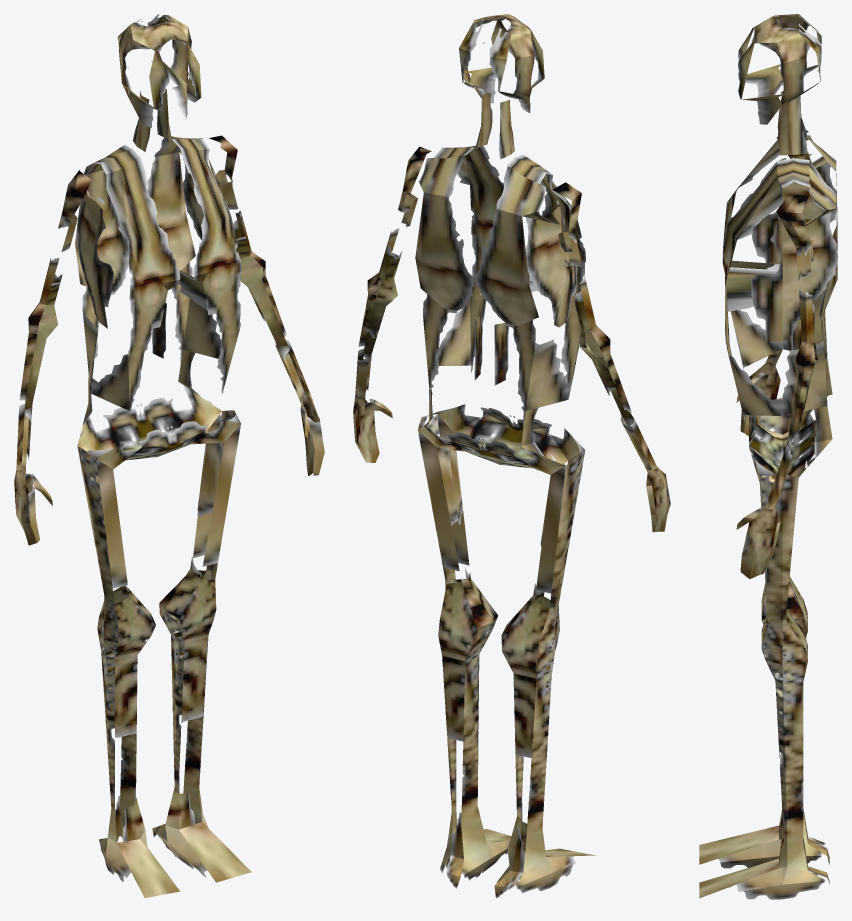
File: psx_skeleton.obj
The picture shows the model from 3 angles, left to right: view 1: azimuth 30°, elevation 25°; view 2: azimuth 150°, elevation 25°; view 3: azimuth 270°, elevation 25°; orthographic projection. The views are drawn at different scales.
Parts seen in each view (by area): view 1: ps1_skeleton; view 2: ps1_skeleton; view 3: ps1_skeleton.
Boxes of the visible parts, left/top/right/bottom form: ps1_skeleton: left=14, top=14, right=324, bottom=897; ps1_skeleton: left=353, top=14, right=670, bottom=897; ps1_skeleton: left=699, top=14, right=837, bottom=899.
Bounding box in the file's own units: 0.7355 × 1.98 × 0.2862.
